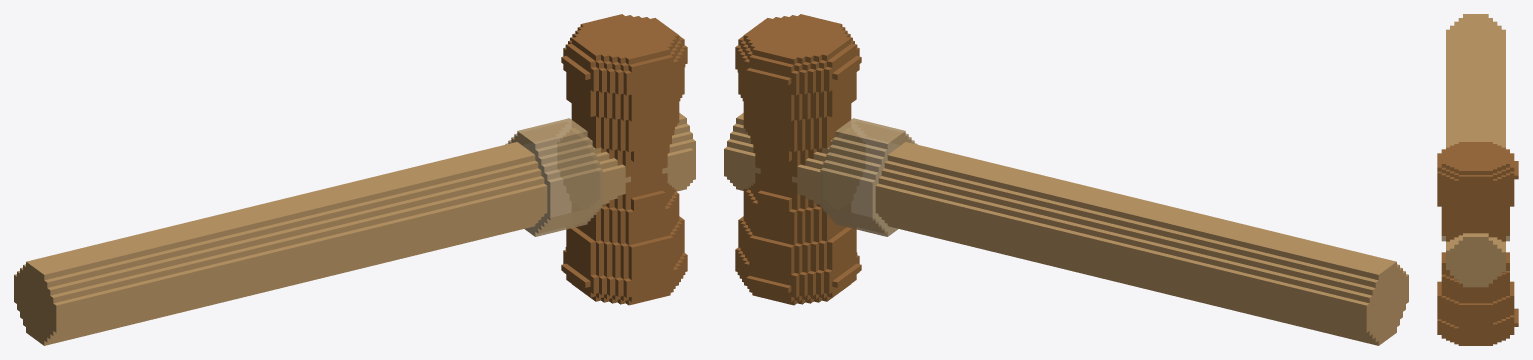
The model's file is hammer_bronze.glb.
The picture shows the model from 3 angles, left to right: view 1: azimuth 30°, elevation 25°; view 2: azimuth 150°, elevation 25°; view 3: azimuth 270°, elevation 25°; orthographic projection. The views are drawn at different scales.
Visible parts, largest first — view 1: hammer_bronze:compound; view 2: hammer_bronze:compound; view 3: hammer_bronze:compound.
Part boxes in pixels (x1,y1,x2,y2): hammer_bronze:compound: [14, 14, 695, 345]; hammer_bronze:compound: [724, 14, 1408, 345]; hammer_bronze:compound: [1437, 14, 1518, 345].
Bounding box in the file's own units: 0.246 × 0.09 × 0.038.
